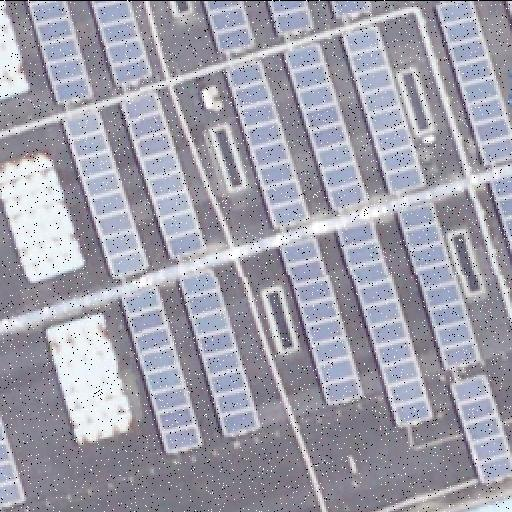solar-panel: (336, 219, 432, 429), (59, 105, 149, 279), (277, 233, 363, 407), (280, 43, 368, 213), (118, 87, 206, 257), (393, 199, 479, 369), (222, 57, 306, 231), (176, 266, 260, 438), (340, 26, 424, 194), (123, 286, 205, 454), (433, 0, 511, 168), (24, 0, 92, 108), (448, 371, 512, 485), (89, 1, 151, 87), (201, 1, 255, 55), (0, 410, 26, 506), (486, 173, 512, 259), (266, 1, 314, 39), (328, 0, 372, 16)
